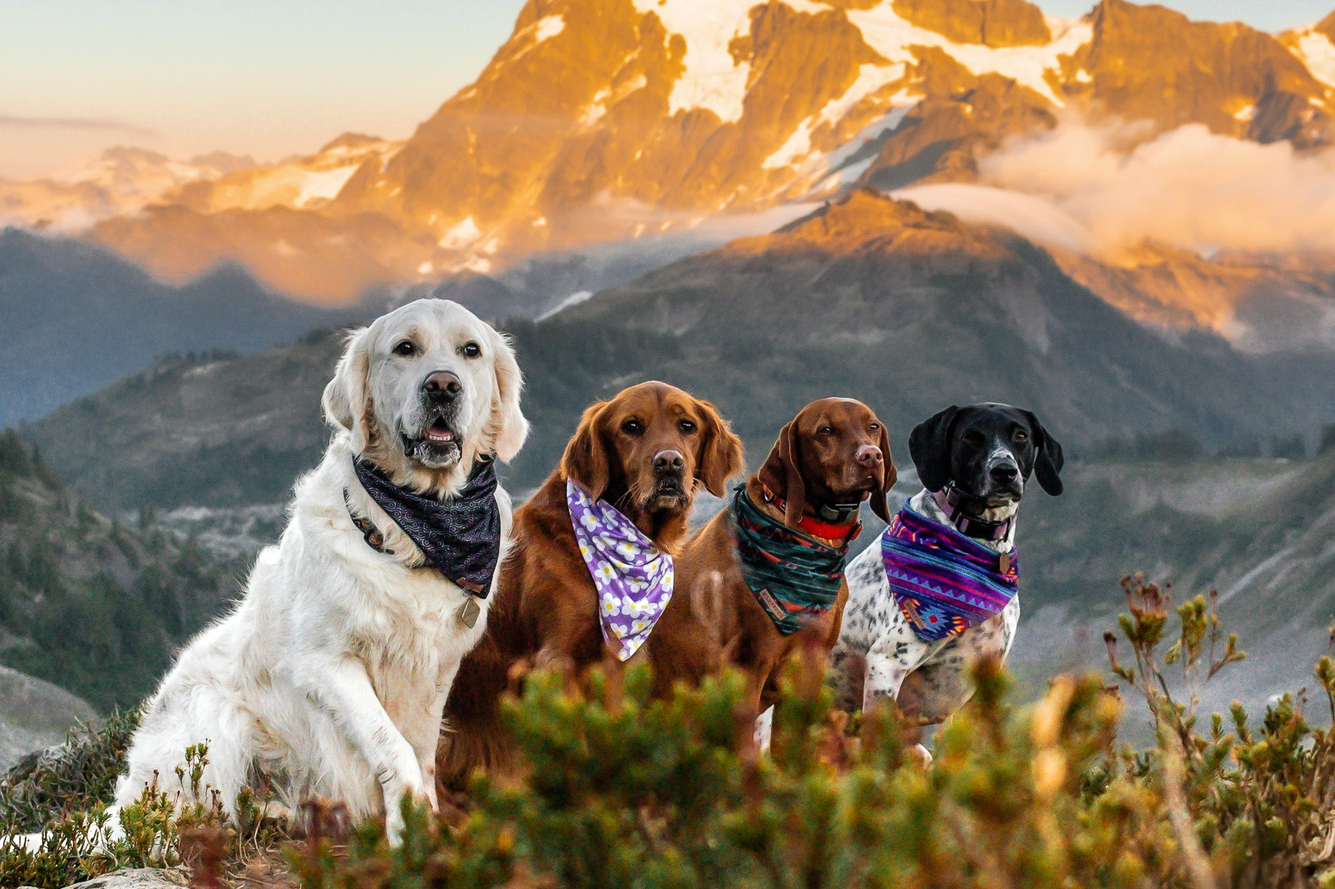Dog: (121, 275, 524, 851), (525, 361, 743, 728), (721, 372, 904, 766), (877, 401, 1067, 759)
